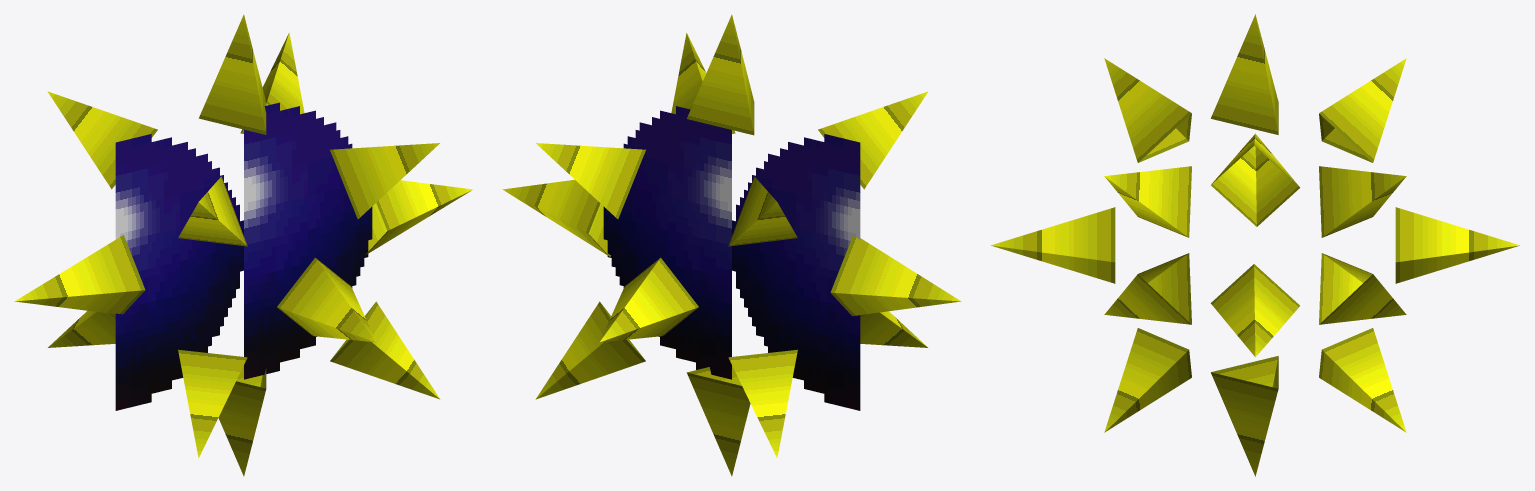
Rendered from koopa_bomb.glb.
3 views of the same model, side by side, from view 1: azimuth 30°, elevation 25°; view 2: azimuth 150°, elevation 25°; view 3: azimuth 270°, elevation 25° (orthographic).
Visible parts, largest first — view 1: koopa_bomb; view 2: koopa_bomb; view 3: koopa_bomb.
Boxes of the visible parts, left/top/right/bottom form: koopa_bomb: left=14, top=14, right=473, bottom=476; koopa_bomb: left=502, top=14, right=961, bottom=476; koopa_bomb: left=990, top=14, right=1520, bottom=476.
Bounding box in the file's own units: 9.2 × 8.86 × 9.2.
Materials: 2 (2 with a texture image).
